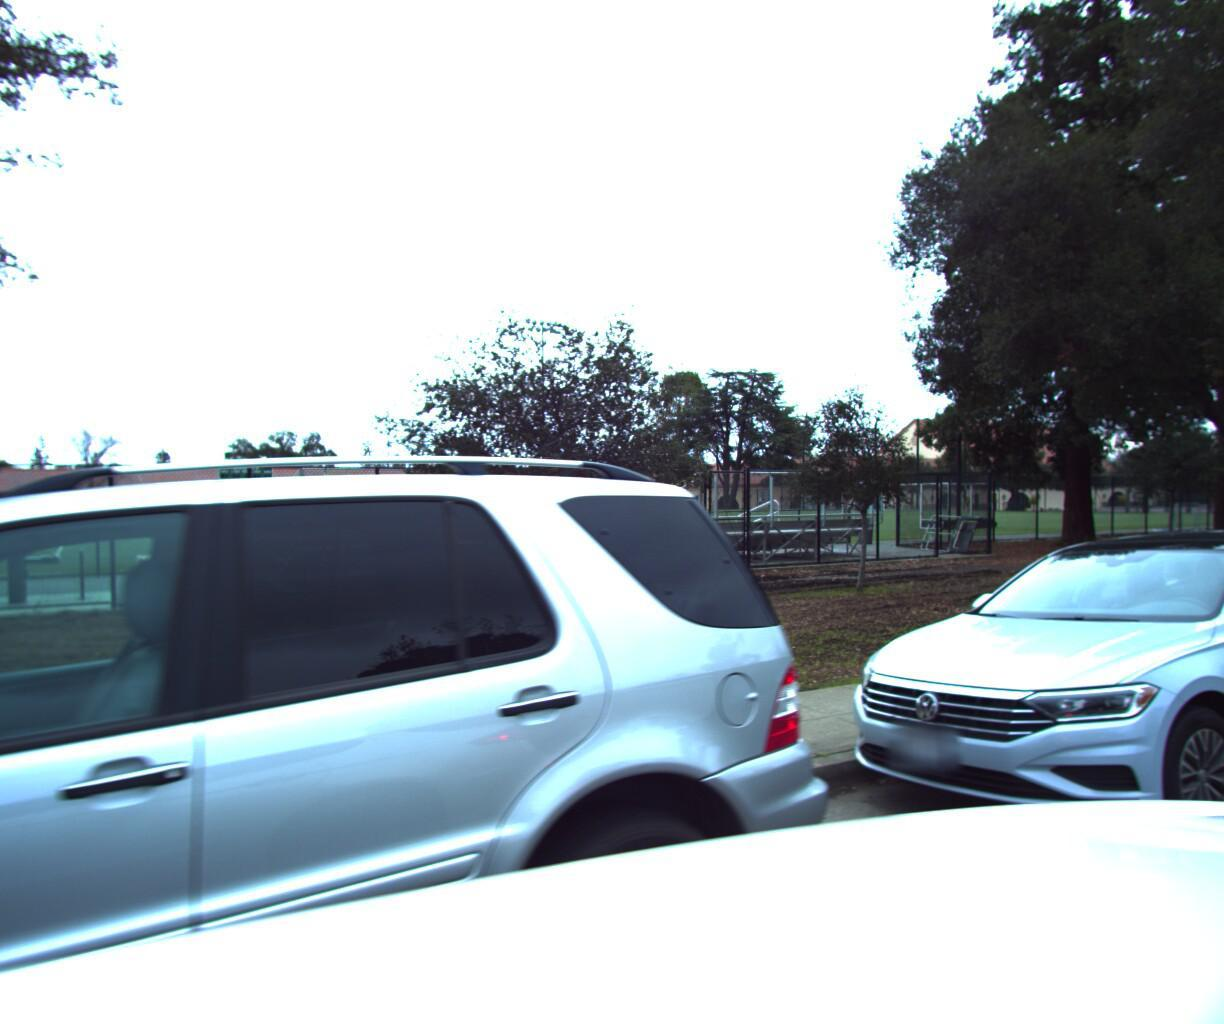car: (0, 367, 881, 1024), (808, 508, 1224, 919)
